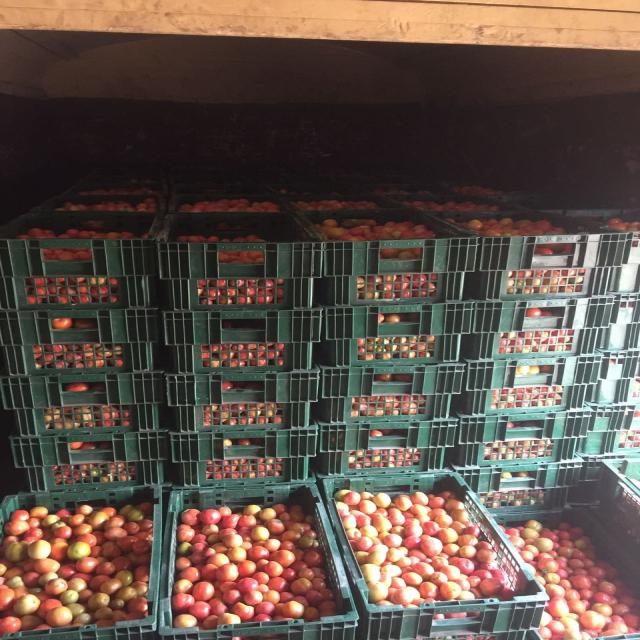basket: (0, 482, 357, 640), (320, 472, 549, 640), (302, 206, 479, 278), (449, 206, 632, 272), (157, 210, 322, 280), (0, 370, 165, 438), (0, 211, 162, 277), (9, 428, 169, 494), (317, 301, 474, 367), (165, 368, 321, 434), (164, 309, 320, 374), (169, 425, 319, 489), (452, 355, 604, 417), (316, 363, 464, 424), (449, 408, 594, 469), (314, 417, 460, 477), (9, 428, 168, 469), (0, 308, 157, 346), (464, 264, 620, 302), (2, 339, 156, 376), (0, 274, 155, 310), (317, 270, 466, 307), (471, 295, 616, 333), (165, 277, 313, 311), (462, 328, 602, 360), (49, 316, 94, 332)
